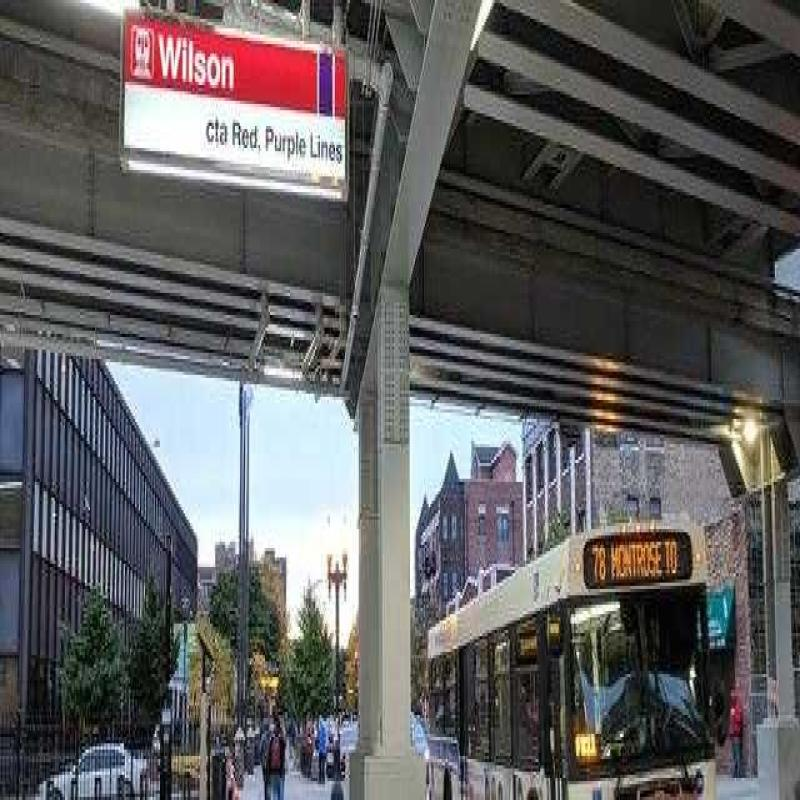bus: (420, 508, 716, 800)
